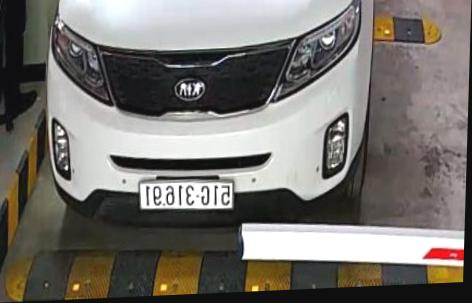License_Plate: (134, 173, 239, 214)
